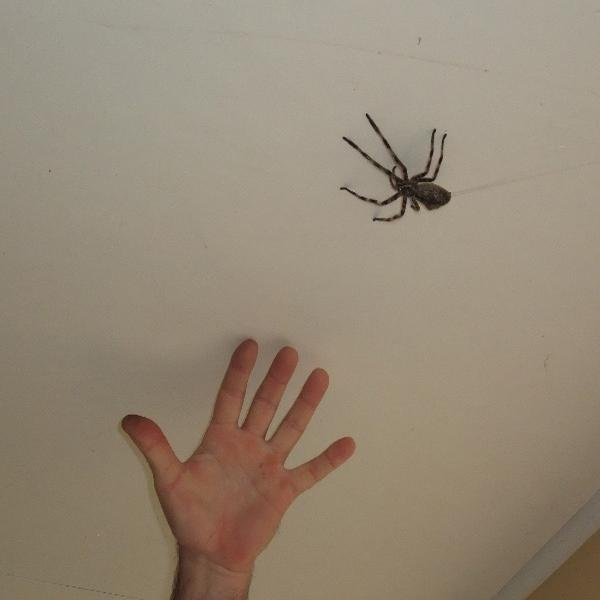Huntsman Spider: (341, 110, 453, 231)
